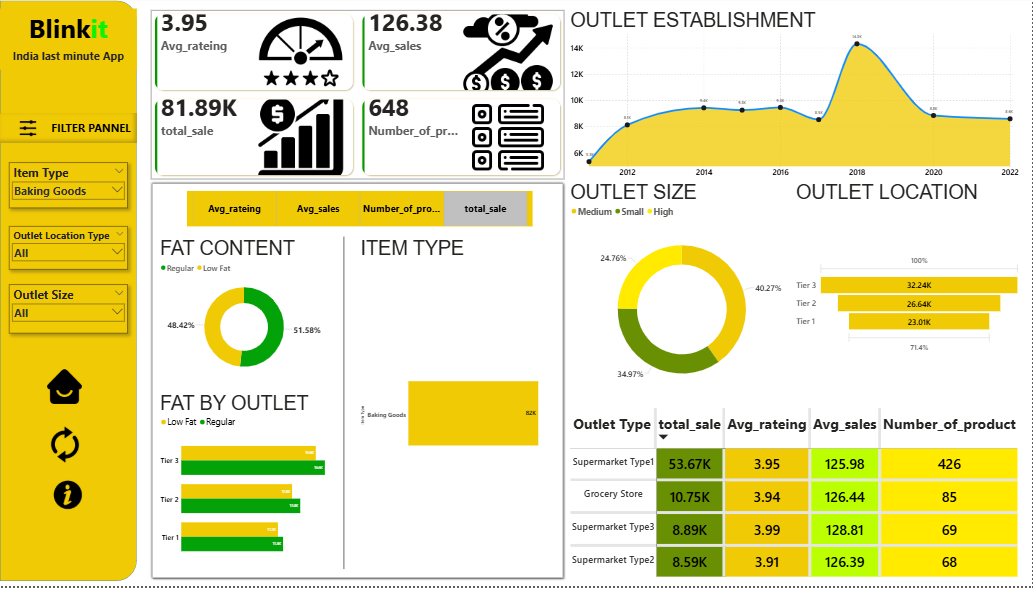

The dashboard page shown, as its layout file describes it:
{"tool":"powerbi","page":{"name":"Blink_it_Dashbaord","canvas":[3500,2000],"ordinal":0},"visuals":[{"type":"shape","box":[0,16,464,1968],"z":0},{"type":"textbox","box":[0,44,464,180],"z":1000},{"type":"textbox","box":[0,172,464,80],"z":2000},{"type":"cardVisual","fields":{"Data":["BlinkIT Grocery Data.Avg_rateing","BlinkIT Grocery Data.Avg_sales","BlinkIT Grocery Data.total_sale","BlinkIT Grocery Data.Number_of_product"]},"box":[508,44,1412,584],"z":3000},{"type":"shape","box":[508,628,1412,1356],"z":4000},{"type":"slicer","fields":{"Values":["Matrix.Matrix"]},"box":[632,660,1172,120],"z":5000},{"type":"donutChart","title":"FAT CONTENT","fields":{"Y":["BlinkIT Grocery Data.total_sale"],"Category":["BlinkIT Grocery Data.Item Fat Content"]},"box":[536,816,580,492],"z":6000},{"type":"shape","box":[1148,816,36,1128],"z":7000},{"type":"clusteredBarChart","title":"ITEM TYPE","fields":{"Y":["BlinkIT Grocery Data.total_sale"],"Category":["BlinkIT Grocery Data.Item Type"]},"box":[1216,816,676,1128],"z":8000},{"type":"clusteredBarChart","title":"FAT BY OUTLET","fields":{"Y":["BlinkIT Grocery Data.total_sale"],"Series":["BlinkIT Grocery Data.Item Fat Content"],"Category":["BlinkIT Grocery Data.Outlet Location Type"]},"box":[536,1340,612,604],"z":9000},{"type":"lineChart","title":"OUTLET ESTABLISHMENT","fields":{"Y":["BlinkIT Grocery Data.total_sale"],"Category":["BlinkIT Grocery Data.Outlet Establishment Year"]},"box":[1928.8,42.5,1530.7,583.7],"z":10000},{"type":"donutChart","title":"OUTLET SIZE","fields":{"Y":["BlinkIT Grocery Data.total_sale"],"Category":["BlinkIT Grocery Data.Outlet Size"]},"box":[1928.8,626.2,765.3,753.7],"z":11000},{"type":"funnel","title":"OUTLET LOCATION","fields":{"Y":["BlinkIT Grocery Data.total_sale"],"Category":["BlinkIT Grocery Data.Outlet Location Type"]},"box":[2694.1,626.2,765.3,753.7],"z":12000},{"type":"pivotTable","fields":{"Values":["BlinkIT Grocery Data.total_sale","BlinkIT Grocery Data.Avg_rateing","BlinkIT Grocery Data.Avg_sales","BlinkIT Grocery Data.Number_of_product"],"Rows":["BlinkIT Grocery Data.Outlet Type"]},"box":[1928.8,1391.5,1530.7,591.4],"z":13000},{"type":"slicer","fields":{"Values":["BlinkIT Grocery Data.Outlet Location Type"]},"box":[30.9,780.8,402,146.9],"z":14000},{"type":"slicer","fields":{"Values":["BlinkIT Grocery Data.Outlet Size"]},"box":[30.9,977.9,402,166.2],"z":15000},{"type":"slicer","fields":{"Values":["BlinkIT Grocery Data.Item Type"]},"box":[30.9,564.3,402,154.6],"z":16000},{"type":"textbox","box":[0,398.1,463.8,100.5],"z":17000},{"type":"image","box":[58,398.1,73.4,100.5],"z":18000},{"type":"image","box":[131.4,1256.2,173.9,135.3],"z":19000},{"type":"image","box":[154.6,1453.4,131.4,135.3],"z":20000},{"type":"image","box":[154.6,1623.4,150.7,135.3],"z":21000}]}

Visuals, with their boxes in screenshot pixels (x1, y1, x2, y2), scaled from the page's 3500x2000 canvas onto the 1033x590 screenshot:
shape: [x1=0, y1=5, x2=137, y2=585]
textbox: [x1=0, y1=13, x2=137, y2=66]
textbox: [x1=0, y1=51, x2=137, y2=74]
cardVisual - BlinkIT Grocery Data.Avg_rateing x BlinkIT Grocery Data.Avg_sales: [x1=150, y1=13, x2=567, y2=185]
shape: [x1=150, y1=185, x2=567, y2=585]
slicer - Matrix.Matrix: [x1=187, y1=195, x2=532, y2=230]
"FAT CONTENT" donutChart: [x1=158, y1=241, x2=329, y2=386]
shape: [x1=339, y1=241, x2=349, y2=573]
"ITEM TYPE" clusteredBarChart: [x1=359, y1=241, x2=558, y2=573]
"FAT BY OUTLET" clusteredBarChart: [x1=158, y1=395, x2=339, y2=573]
"OUTLET ESTABLISHMENT" lineChart: [x1=569, y1=13, x2=1021, y2=185]
"OUTLET SIZE" donutChart: [x1=569, y1=185, x2=795, y2=407]
"OUTLET LOCATION" funnel: [x1=795, y1=185, x2=1021, y2=407]
pivotTable - BlinkIT Grocery Data.total_sale x BlinkIT Grocery Data.Avg_rateing: [x1=569, y1=410, x2=1021, y2=585]
slicer - BlinkIT Grocery Data.Outlet Location Type: [x1=9, y1=230, x2=128, y2=274]
slicer - BlinkIT Grocery Data.Outlet Size: [x1=9, y1=288, x2=128, y2=338]
slicer - BlinkIT Grocery Data.Item Type: [x1=9, y1=166, x2=128, y2=212]
textbox: [x1=0, y1=117, x2=137, y2=147]
image: [x1=17, y1=117, x2=39, y2=147]
image: [x1=39, y1=371, x2=90, y2=410]
image: [x1=46, y1=429, x2=84, y2=469]
image: [x1=46, y1=479, x2=90, y2=519]
